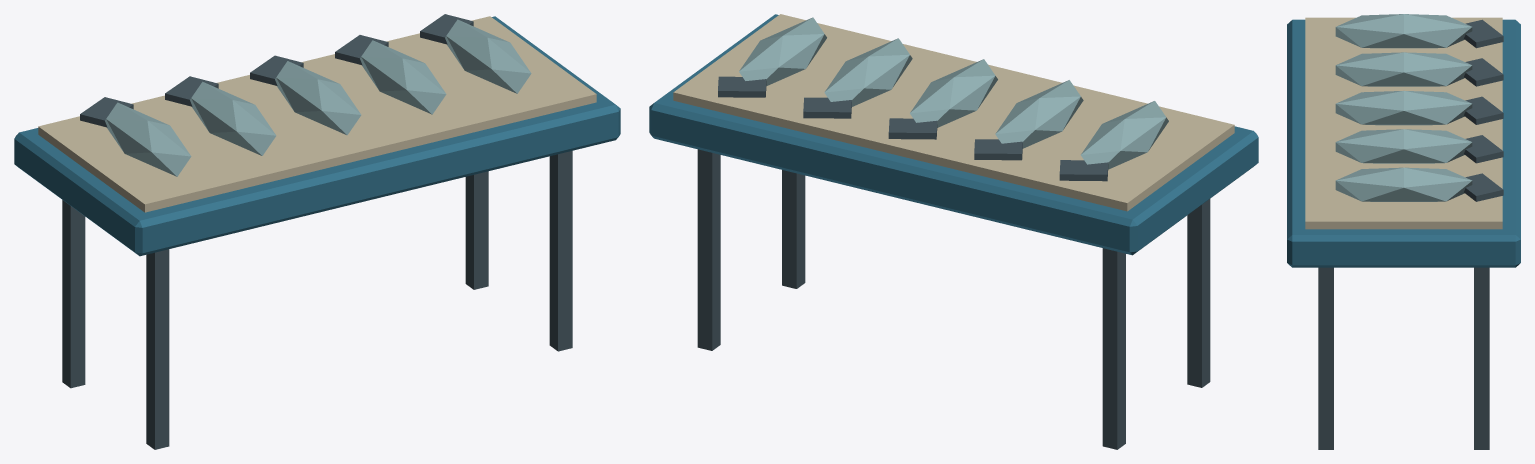
File: fish_table.glb
3 views of the same model, side by side, from view 1: azimuth 30°, elevation 25°; view 2: azimuth 150°, elevation 25°; view 3: azimuth 270°, elevation 25° (orthographic). The views are drawn at different scales.
Visible parts, largest first — view 1: fish_table; view 2: fish_table; view 3: fish_table.
Part boxes in pixels (left/top/right/bottom): fish_table: left=14, top=14, right=620, bottom=449; fish_table: left=649, top=14, right=1258, bottom=449; fish_table: left=1287, top=14, right=1520, bottom=449.
Size of the model in its own units: 2 by 1.12 by 0.9.
